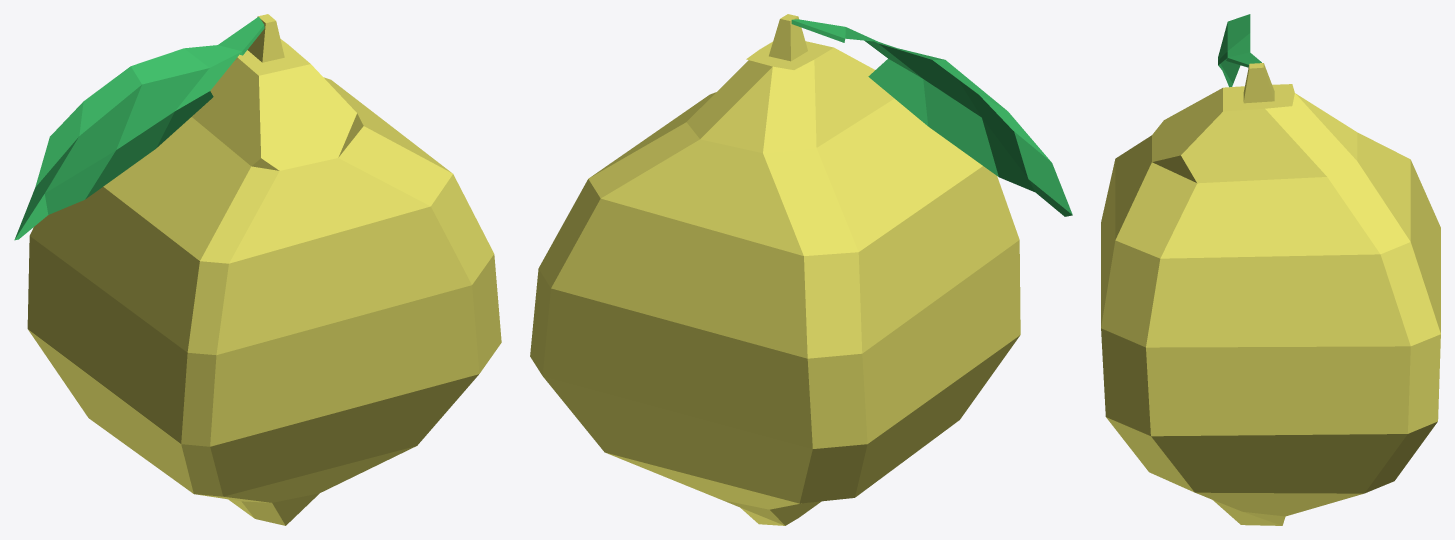
File: LemonFull.fbx
3 views of the same model, side by side, from view 1: azimuth 30°, elevation 25°; view 2: azimuth 150°, elevation 25°; view 3: azimuth 270°, elevation 25° (orthographic). The views are drawn at different scales.
Visible parts, largest first — view 1: Lemon; view 2: Lemon; view 3: Lemon.
Part boxes in pixels (bbox=[...]): Lemon: bbox=[14, 14, 501, 525]; Lemon: bbox=[530, 14, 1072, 525]; Lemon: bbox=[1101, 14, 1440, 525].
Size of the model in its own units: 5.63 by 6.11 by 4.13.
